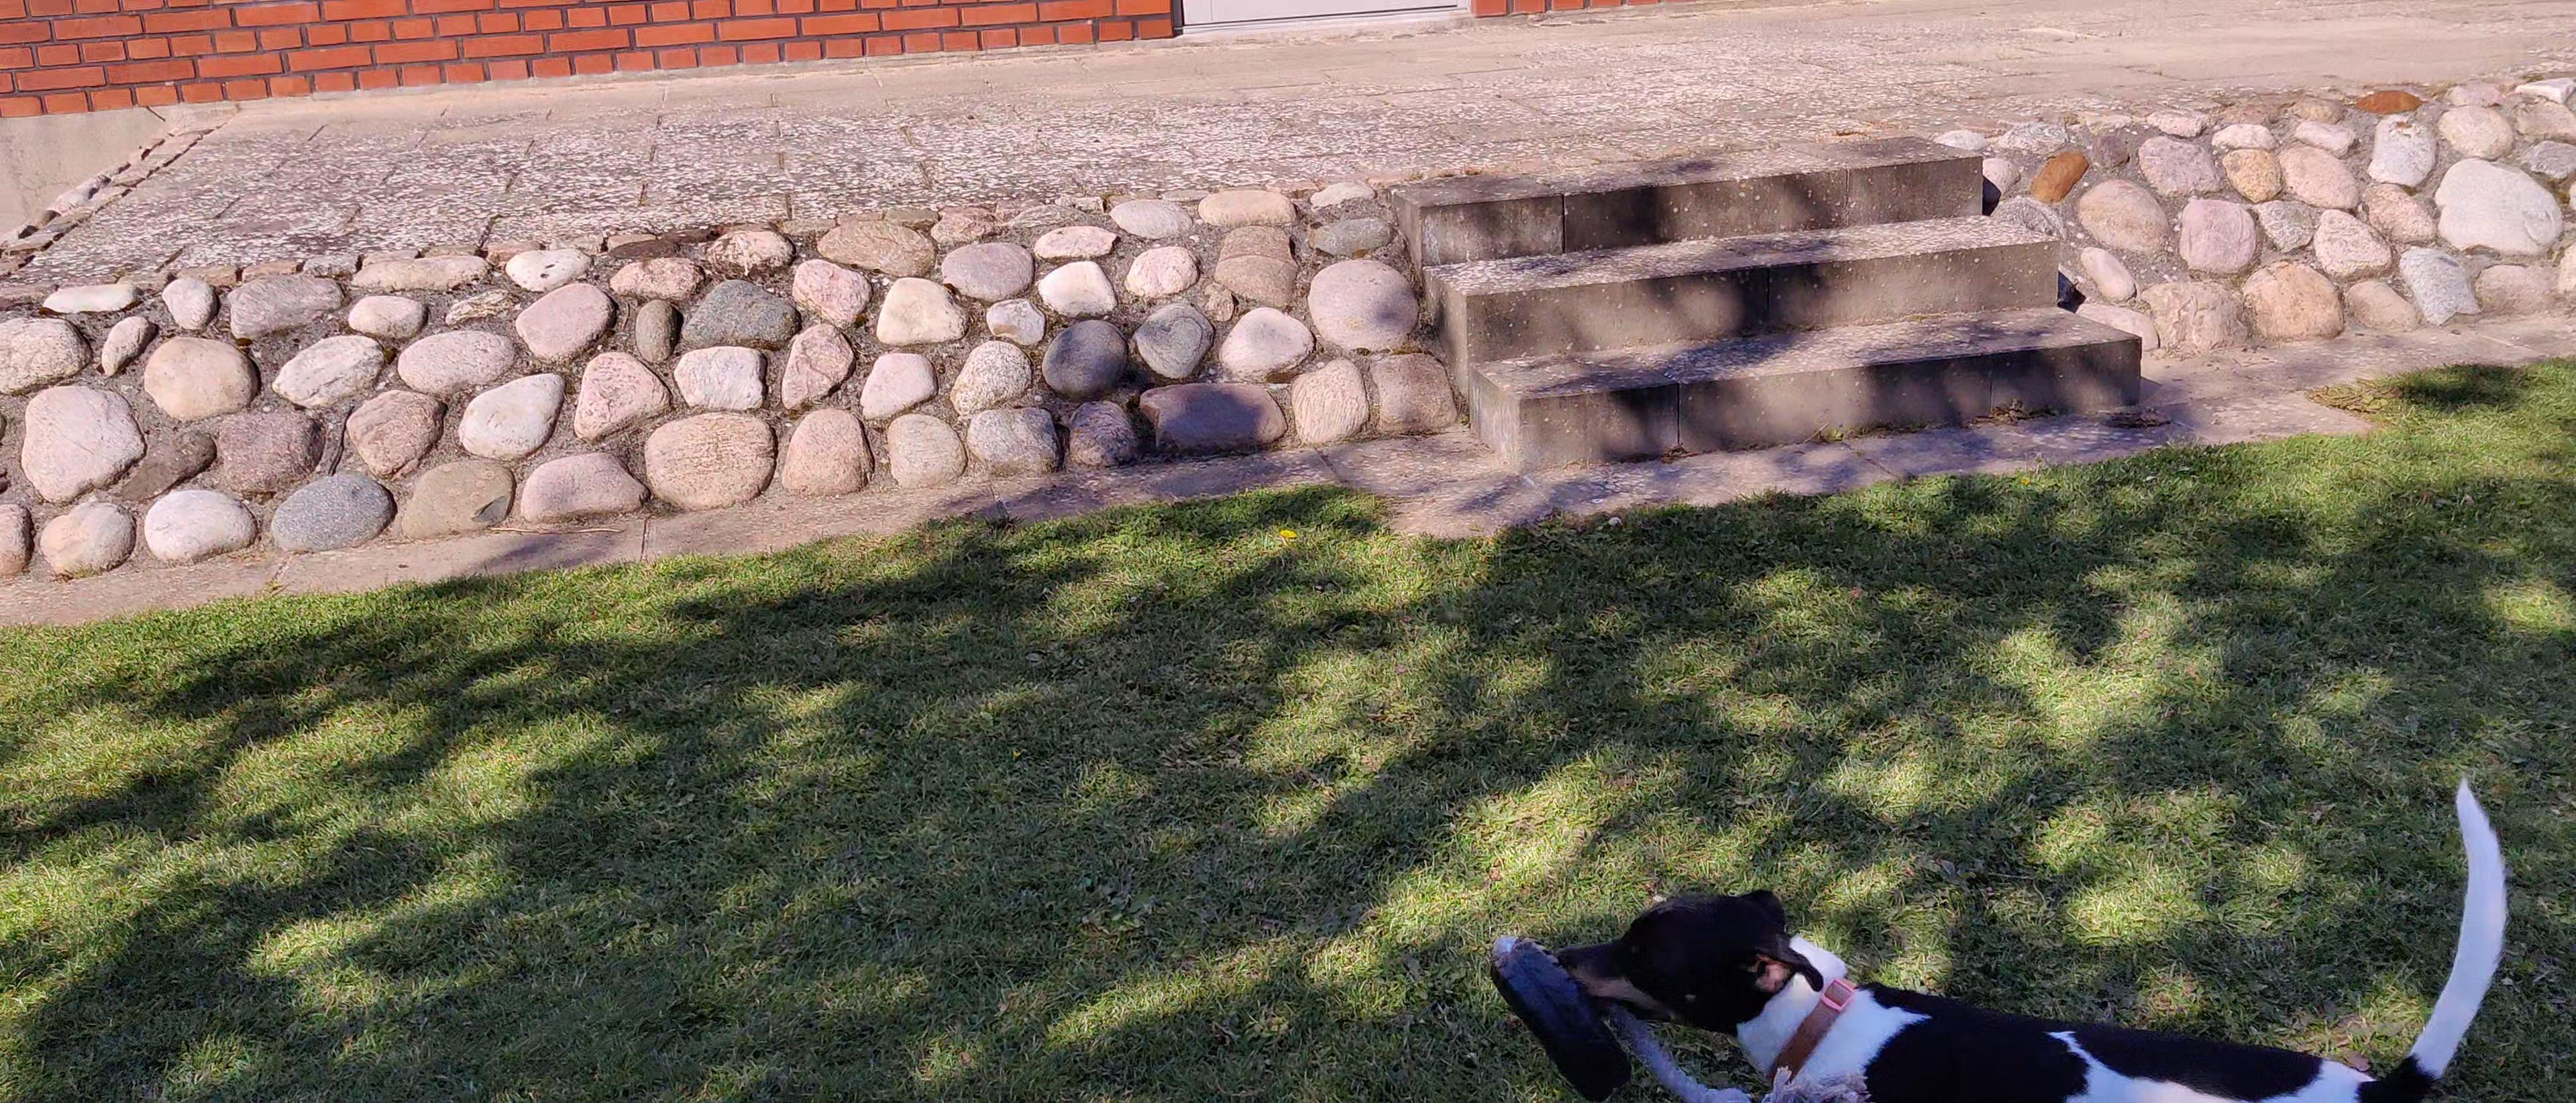Dog: (1548, 761, 2527, 1103)
